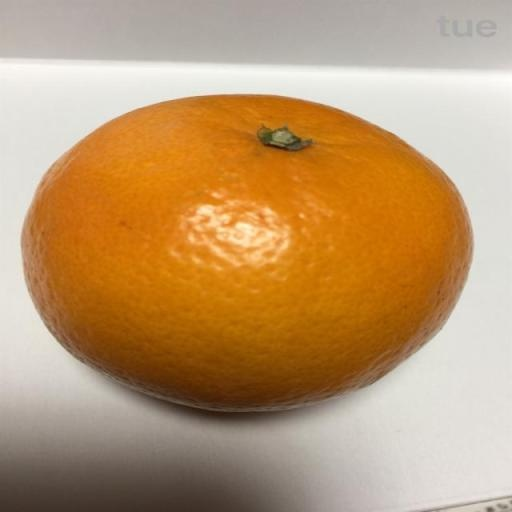fruit: (23, 96, 471, 410)
